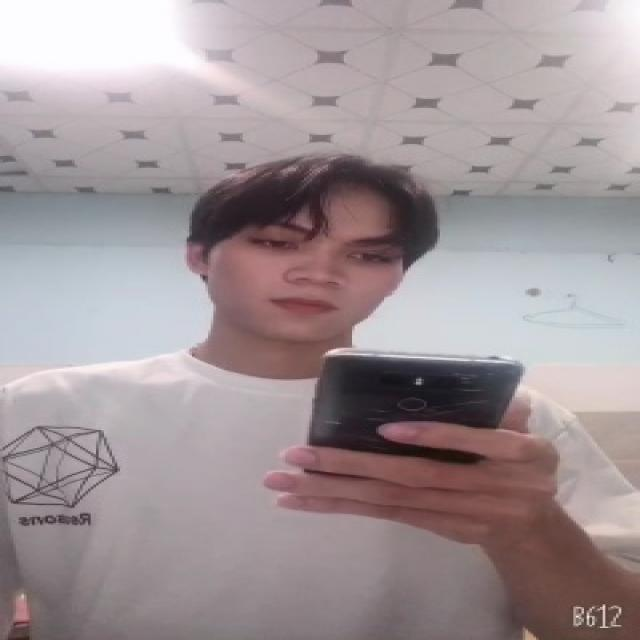Phone: (297, 348, 524, 483)
